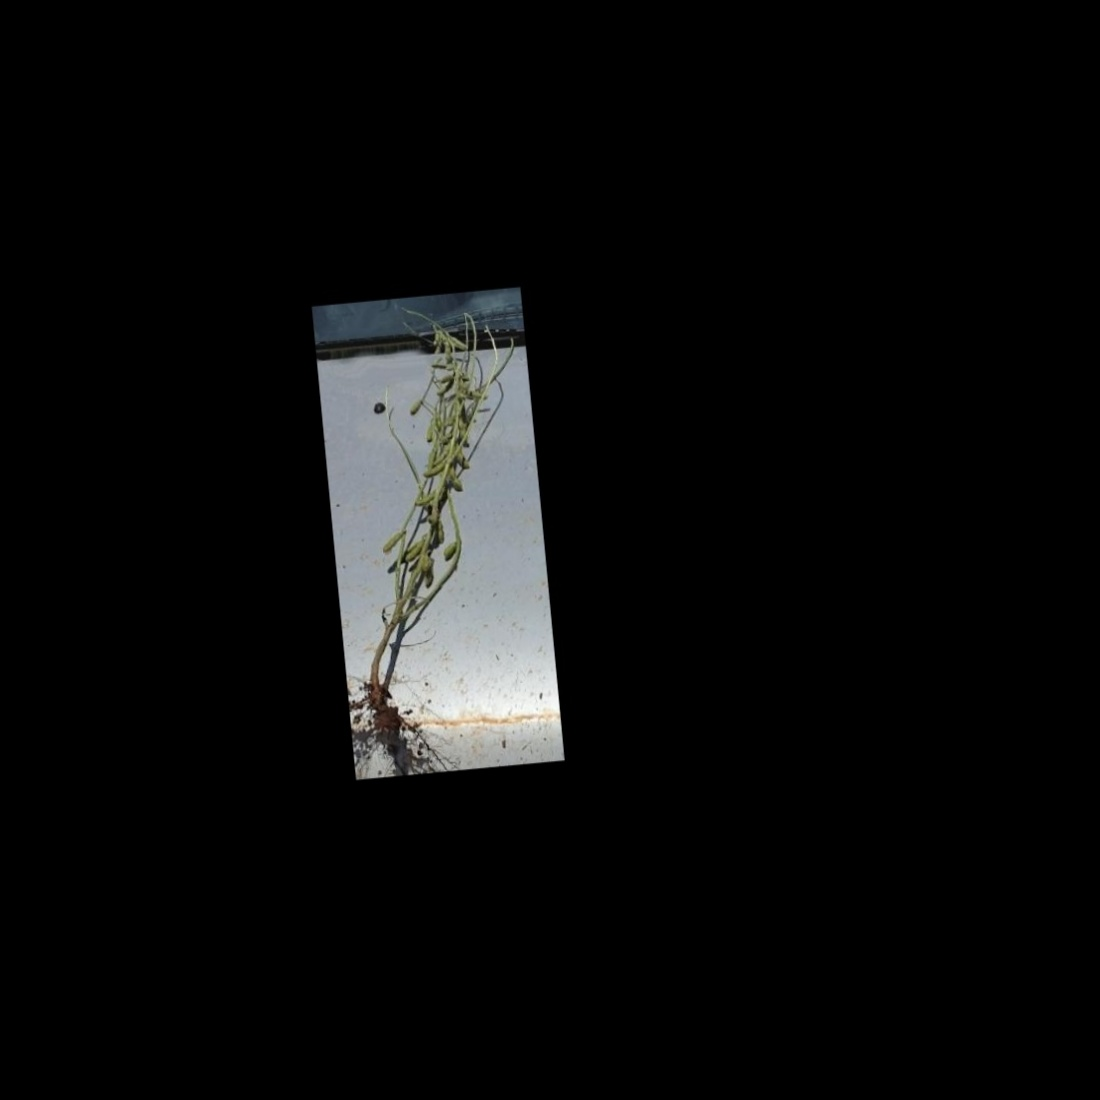pod: (379, 527, 407, 554), (401, 541, 426, 564), (411, 488, 440, 507), (440, 538, 462, 562), (449, 465, 462, 493), (406, 398, 424, 416)
soy: (318, 295, 557, 741)
